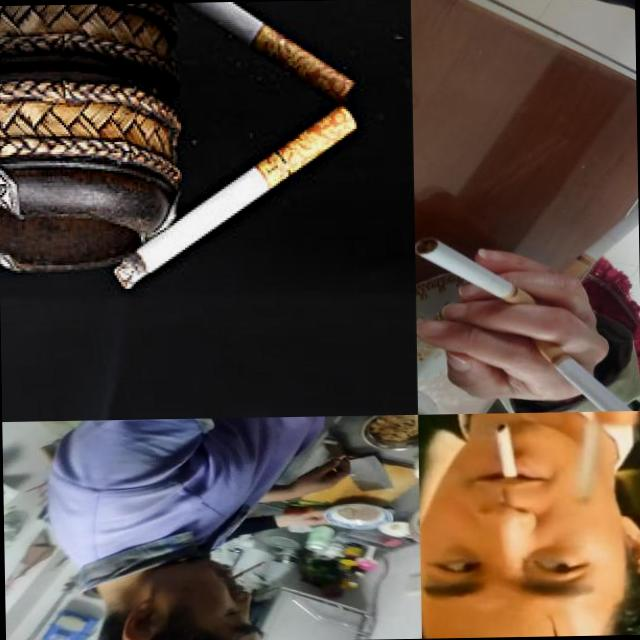cigarette: (107, 100, 361, 296), (521, 322, 640, 412), (414, 234, 538, 314), (553, 186, 639, 286), (492, 424, 516, 479), (230, 560, 265, 582)
